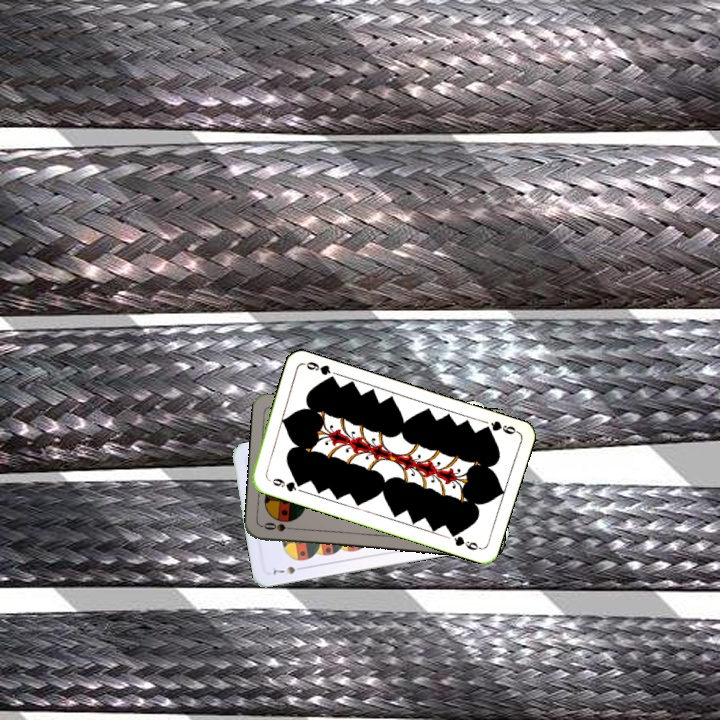G9: (478, 417, 520, 437), (264, 474, 305, 494)
S7: (267, 562, 307, 577)
SO: (259, 518, 300, 534)
